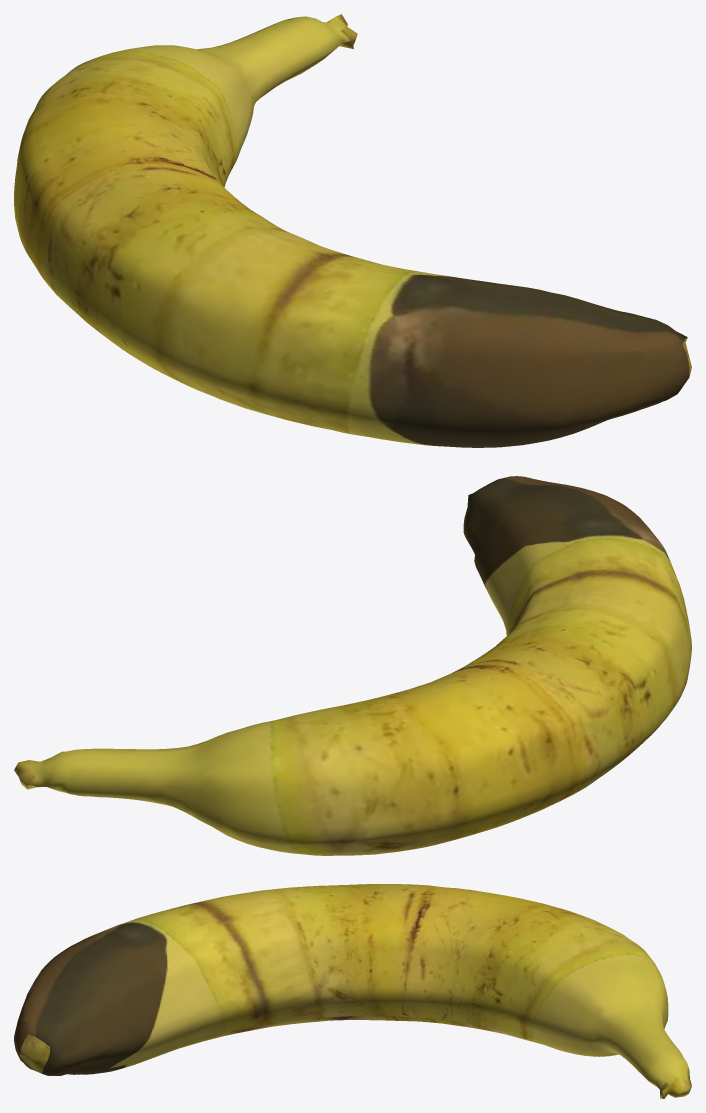
The model's file is food_produce_banana_m01.glb.
3 renders of one model, top to bottom at view 1: azimuth 30°, elevation 25°; view 2: azimuth 150°, elevation 25°; view 3: azimuth 270°, elevation 25°, orthographic. The views are drawn at different scales.
Parts seen in each view (by area): view 1: sm_food_produce_banana_m01_mesh_00_0; view 2: sm_food_produce_banana_m01_mesh_00_0; view 3: sm_food_produce_banana_m01_mesh_00_0.
Boxes of the visible parts, x1,y1,x2,y2 form: sm_food_produce_banana_m01_mesh_00_0: [14, 14, 691, 447]; sm_food_produce_banana_m01_mesh_00_0: [14, 476, 691, 855]; sm_food_produce_banana_m01_mesh_00_0: [14, 884, 691, 1098].
Bounding box in the file's own units: 0.0898 × 0.0284 × 0.1484.
Materials: 1 (1 with a texture image).
